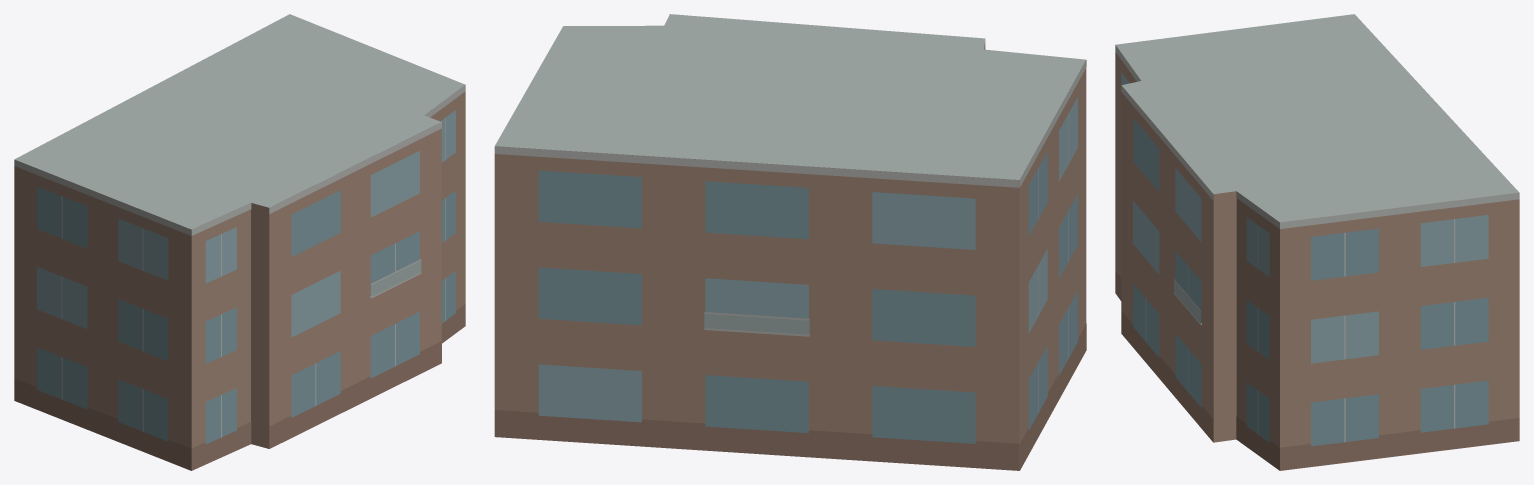
File: survey-upis-32619624.glb
The picture shows the model from 3 angles, left to right: view 1: azimuth 30°, elevation 25°; view 2: azimuth 150°, elevation 25°; view 3: azimuth 270°, elevation 25°; orthographic projection. The views are drawn at different scales.
Visible parts, largest first — view 1: survey-upis-32619624.tmp; view 2: survey-upis-32619624.tmp; view 3: survey-upis-32619624.tmp.
Part boxes in pixels (<box>): survey-upis-32619624.tmp: <box>14,14,465,470</box>; survey-upis-32619624.tmp: <box>494,14,1086,470</box>; survey-upis-32619624.tmp: <box>1115,14,1519,470</box>.
Bounding box in the file's own units: 16.39 × 9.1 × 13.43.
